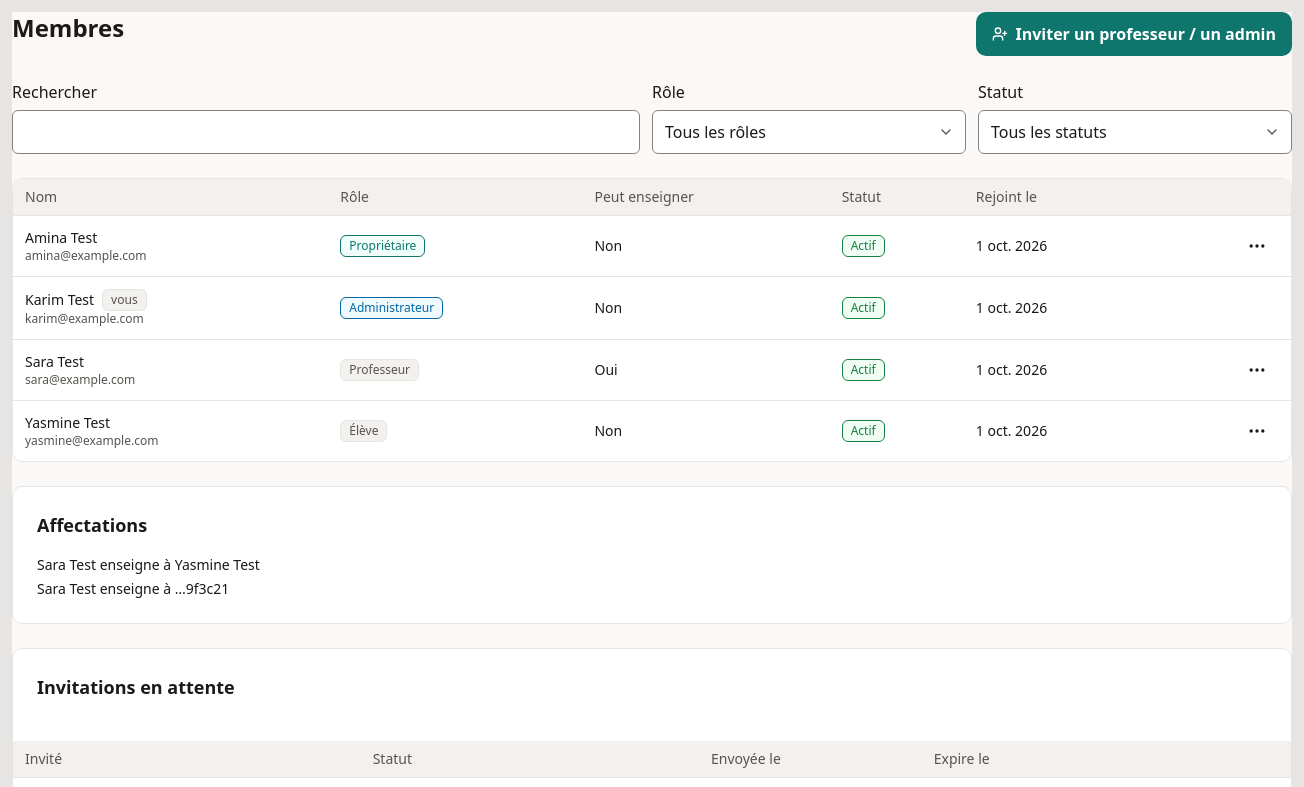
Test: MembersPanel › never offers to remove the OWNER or yourself
Click the button named "Actions pour Amina Test": x=1257, y=246 [1235, 224, 1279, 268]
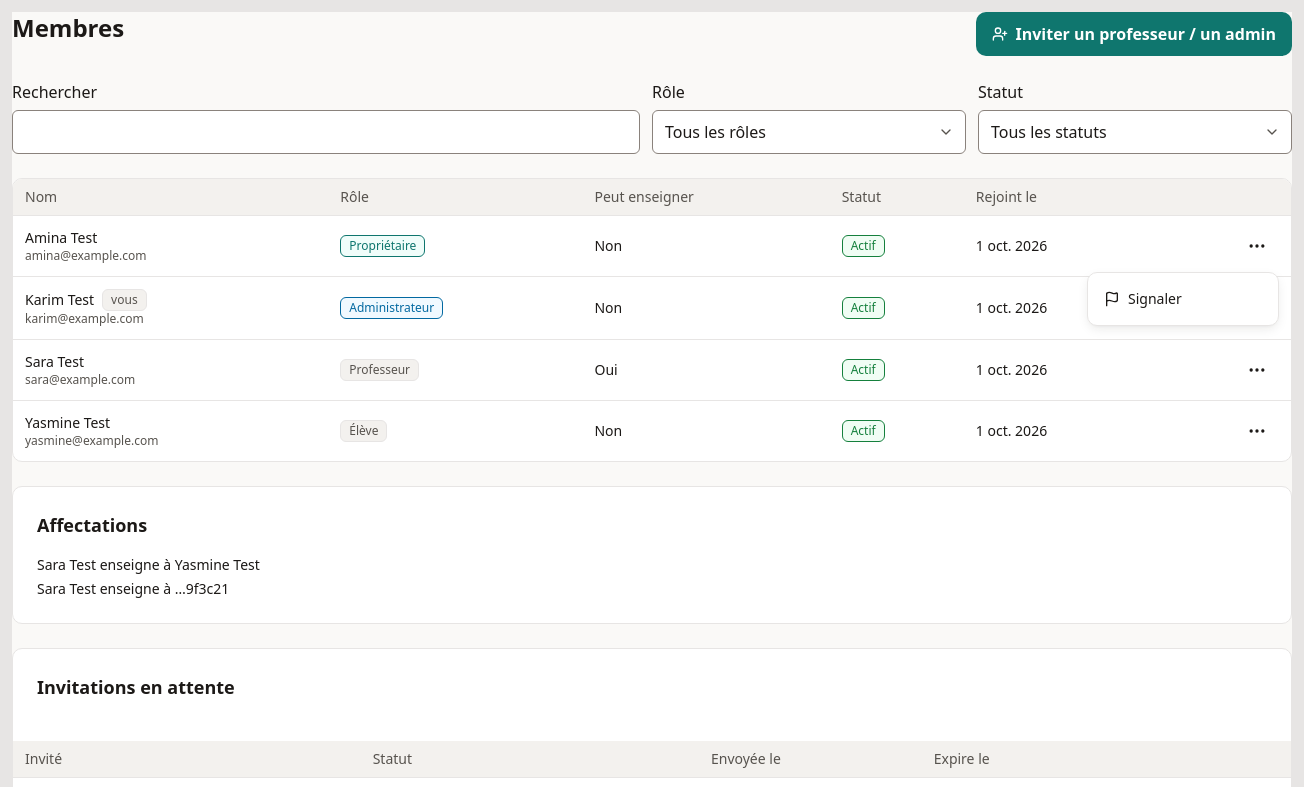
Result: the menu item "Signaler" is shown at [1104, 289, 1182, 308]
